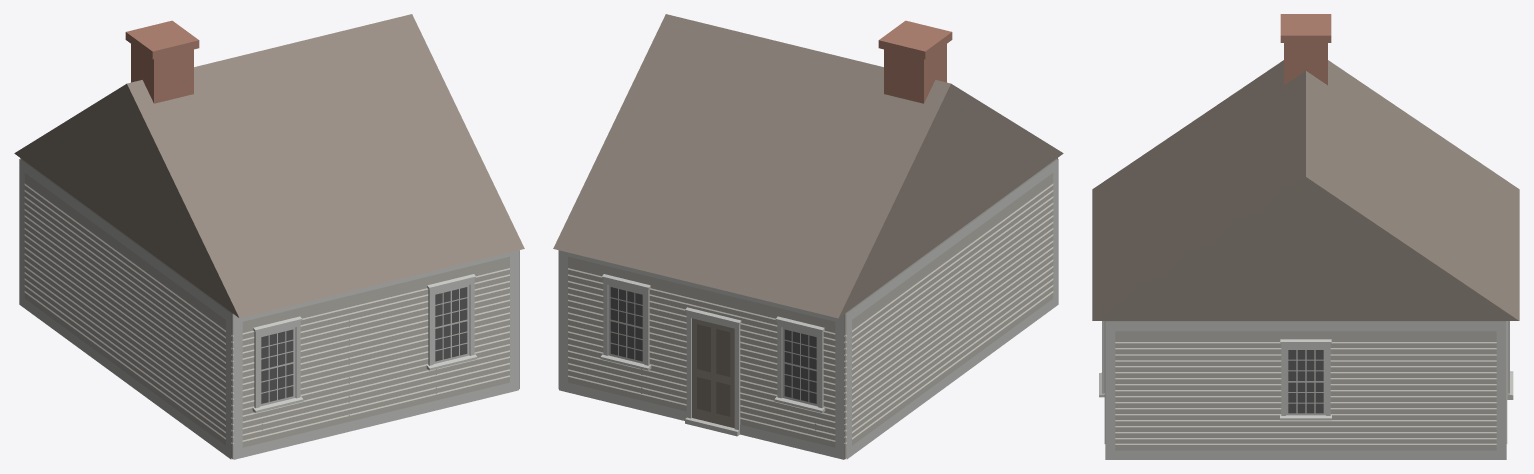
File: recon_1835_north_d4_005__inferred_1835.glb
3 renders of one model, left to right at view 1: azimuth 30°, elevation 25°; view 2: azimuth 150°, elevation 25°; view 3: azimuth 270°, elevation 25°, orthographic. The views are drawn at different scales.
Visible parts, largest first — view 1: recon_1835_north_d4_005__inferred_1835; view 2: recon_1835_north_d4_005__inferred_1835; view 3: recon_1835_north_d4_005__inferred_1835.
Part boxes in pixels (x1,y1,x2,y2): recon_1835_north_d4_005__inferred_1835: (14,14,524,459); recon_1835_north_d4_005__inferred_1835: (553,14,1063,459); recon_1835_north_d4_005__inferred_1835: (1092,14,1519,459).
Bounding box in the file's own units: 6.15 × 6.77 × 8.21.
